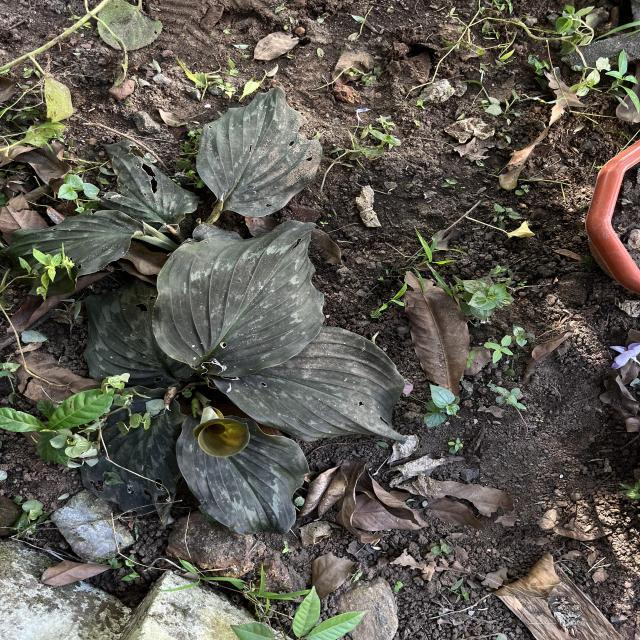Kaempferia galanga linn: (150, 218, 327, 378), (210, 324, 408, 444), (192, 83, 326, 219), (172, 411, 312, 537)
